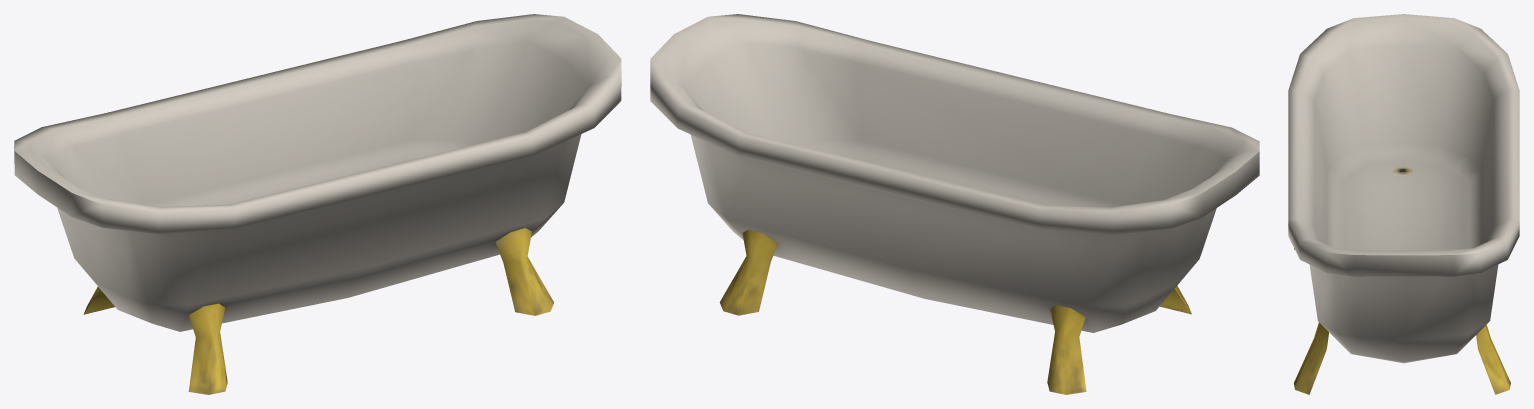
The model's file is sb_obj_ModernCity080_bathtub.fbx.
3 views of the same model, side by side, from view 1: azimuth 30°, elevation 25°; view 2: azimuth 150°, elevation 25°; view 3: azimuth 270°, elevation 25° (orthographic). The views are drawn at different scales.
Parts seen in each view (by area): view 1: sb_obj_ModernCity080_bathtub; view 2: sb_obj_ModernCity080_bathtub; view 3: sb_obj_ModernCity080_bathtub.
Part boxes in pixels (x1,y1,x2,y2): sb_obj_ModernCity080_bathtub: (14, 14, 621, 394); sb_obj_ModernCity080_bathtub: (650, 14, 1259, 394); sb_obj_ModernCity080_bathtub: (1288, 14, 1519, 394).
Bounding box in the file's own units: 1.56 × 0.5474 × 0.6329.
1 material, 1 textured.
